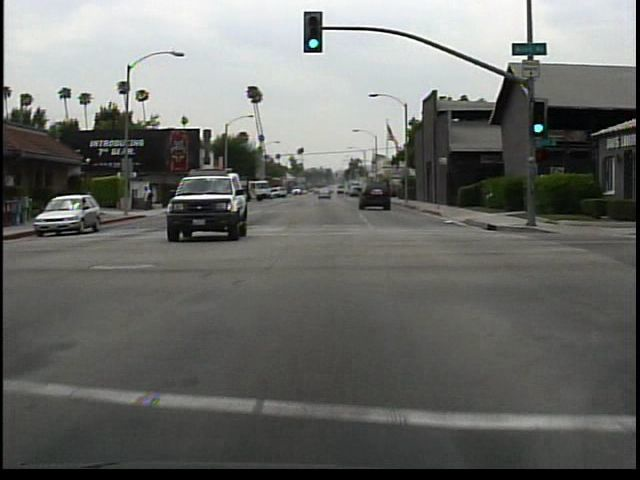person: (144, 182, 159, 213)
